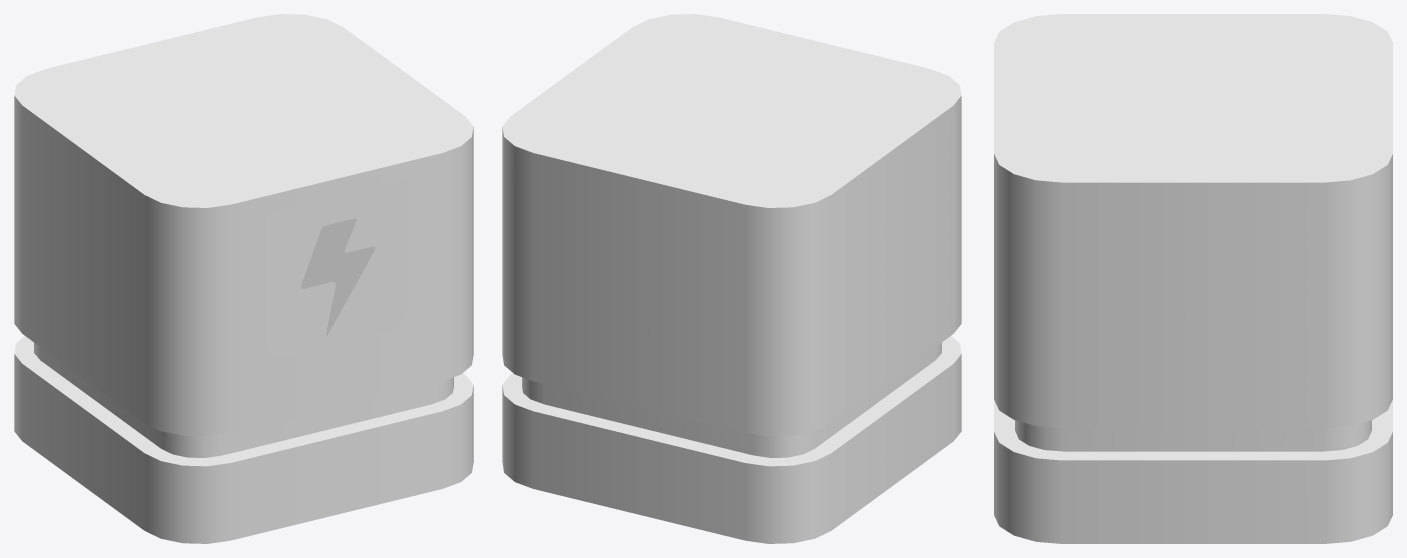
Rendered from Energy_cube.fbx.
The picture shows the model from 3 angles, left to right: view 1: azimuth 30°, elevation 25°; view 2: azimuth 150°, elevation 25°; view 3: azimuth 270°, elevation 25°; orthographic projection. The views are drawn at different scales.
Parts seen in each view (by area): view 1: Energy_cube; view 2: Energy_cube; view 3: Energy_cube.
Boxes of the visible parts, box(x1,y1,x2,y2) form: Energy_cube: box(14, 14, 473, 543); Energy_cube: box(502, 14, 961, 543); Energy_cube: box(994, 14, 1392, 543).
Size of the model in its own units: 3.46 by 3.46 by 3.49.
